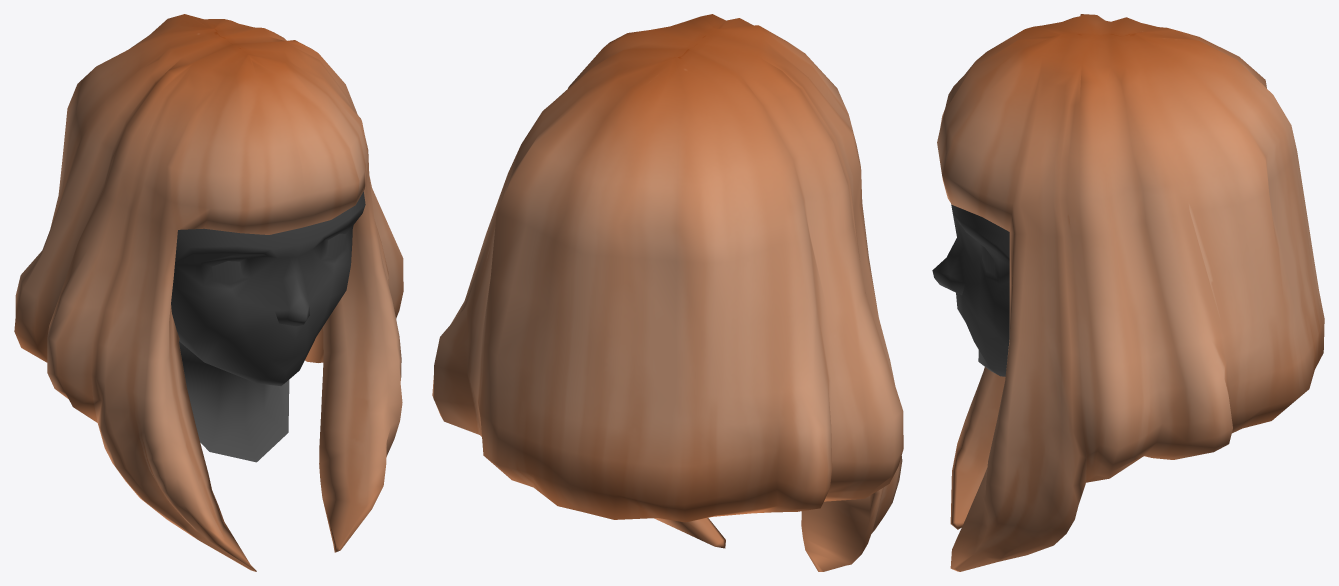
Rendered from doki-aurora-bob.glb.
3 renders of one model, left to right at view 1: azimuth 30°, elevation 25°; view 2: azimuth 150°, elevation 25°; view 3: azimuth 270°, elevation 25°, orthographic. The views are drawn at different scales.
Visible parts, largest first — view 1: AuroraBob, Head_BaseMesh; view 2: AuroraBob; view 3: AuroraBob, Head_BaseMesh.
Part boxes in pixels (box(x1,y1,x2,y2)): AuroraBob: box(14, 14, 403, 571); Head_BaseMesh: box(171, 191, 365, 462); AuroraBob: box(432, 14, 903, 571); AuroraBob: box(937, 14, 1324, 571); Head_BaseMesh: box(932, 204, 1009, 376).
Bounding box in the file's own units: 0.8044 × 1.04 × 0.7175.
2 materials, 2 textured.
